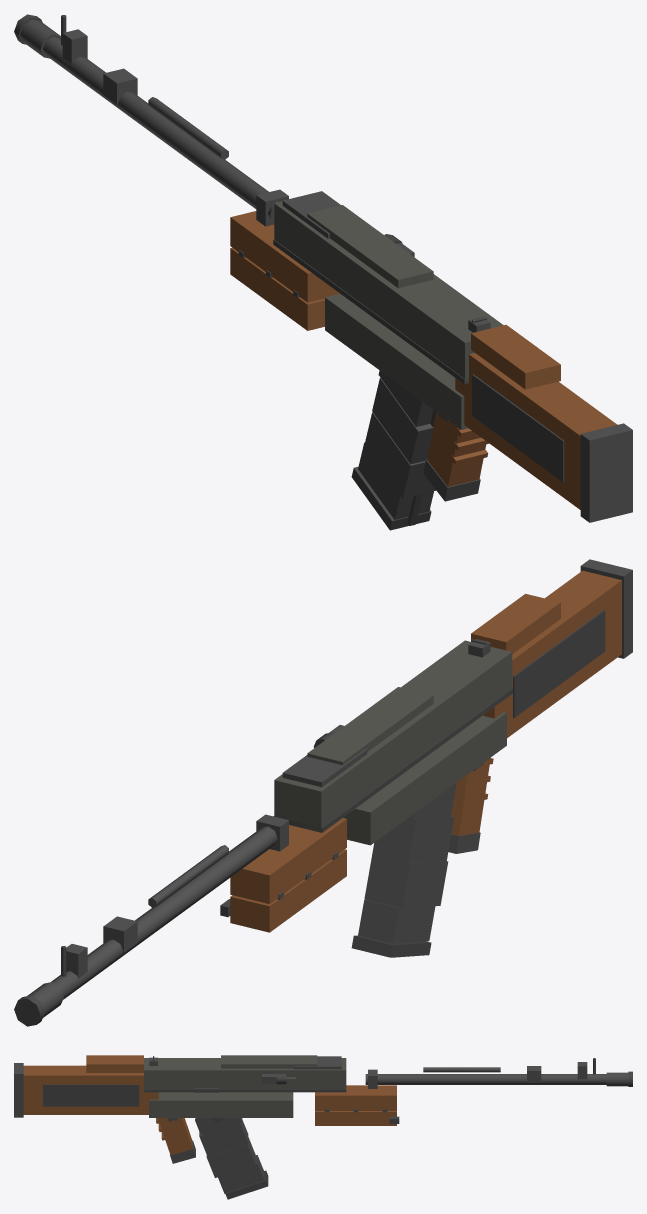
Rendered from rifle.glb.
3 renders of one model, top to bottom at view 1: azimuth 30°, elevation 25°; view 2: azimuth 150°, elevation 25°; view 3: azimuth 270°, elevation 25°, orthographic. The views are drawn at different scales.
Visible parts, largest first — view 1: Receiver_UpperShell, Stock_Body, Receiver_LowerShell, Barrel_MainTube, Stock_Buttplate, Receiver_DustCover, Stock_PanelLineL, Foregrip_Upper, Stock_Comb, Foregrip_Lower, Magazine_Seg3, PistolGrip_Main (+11 smaller); view 2: Receiver_UpperShell, Receiver_LowerShell, Stock_Body, Barrel_MainTube, Foregrip_Upper, Stock_PanelLineL, Receiver_DustCover, Magazine_Seg3, Foregrip_Lower, Stock_Comb, Magazine_Seg2, Magazine_Seg4 (+12 smaller); view 3: Receiver_UpperShell, Stock_Body, Receiver_LowerShell, Barrel_MainTube, Stock_PanelLineR, Foregrip_Upper, Receiver_DustCover, Foregrip_Lower, Magazine_Seg2, Magazine_Seg3, Stock_Comb, PistolGrip_Main (+10 smaller).
Part boxes in pixels (box(x1,y1,x2,y2)): Receiver_UpperShell: box(274, 201, 503, 383); Stock_Body: box(455, 353, 617, 509); Receiver_LowerShell: box(325, 293, 467, 429); Barrel_MainTube: box(43, 37, 278, 221); Stock_Buttplate: box(580, 423, 632, 522); Receiver_DustCover: box(307, 205, 433, 288); Stock_PanelLineL: box(472, 374, 564, 481); Foregrip_Upper: box(230, 211, 339, 302); Stock_Comb: box(471, 324, 560, 389); Foregrip_Lower: box(230, 247, 324, 330); Magazine_Seg3: box(364, 412, 435, 498); PistolGrip_Main: box(427, 412, 486, 486); Receiver_UpperShell: box(274, 640, 512, 832); Receiver_LowerShell: box(343, 712, 506, 845); Stock_Body: box(483, 570, 621, 737); Barrel_MainTube: box(51, 826, 277, 999); Foregrip_Upper: box(230, 818, 346, 904); Stock_PanelLineL: box(513, 610, 605, 717); Receiver_DustCover: box(307, 687, 433, 765); Magazine_Seg3: box(364, 855, 448, 908); Foregrip_Lower: box(230, 849, 346, 932); Stock_Comb: box(471, 593, 560, 653); Magazine_Seg2: box(372, 816, 454, 863); Magazine_Seg4: box(358, 899, 435, 943); Receiver_UpperShell: box(144, 1058, 346, 1089); Stock_Body: box(23, 1065, 158, 1114); Receiver_LowerShell: box(149, 1092, 293, 1117); Barrel_MainTube: box(365, 1074, 606, 1084); Stock_PanelLineR: box(43, 1084, 139, 1106); Foregrip_Upper: box(315, 1085, 396, 1110); Receiver_DustCover: box(221, 1055, 317, 1068); Foregrip_Lower: box(315, 1111, 396, 1125); Magazine_Seg2: box(199, 1120, 248, 1156); Magazine_Seg3: box(206, 1137, 255, 1177); Stock_Comb: box(86, 1055, 143, 1072); PistolGrip_Main: box(158, 1118, 192, 1155).
Bounding box in the file's own units: 0.083 × 0.3134 × 1.28.
